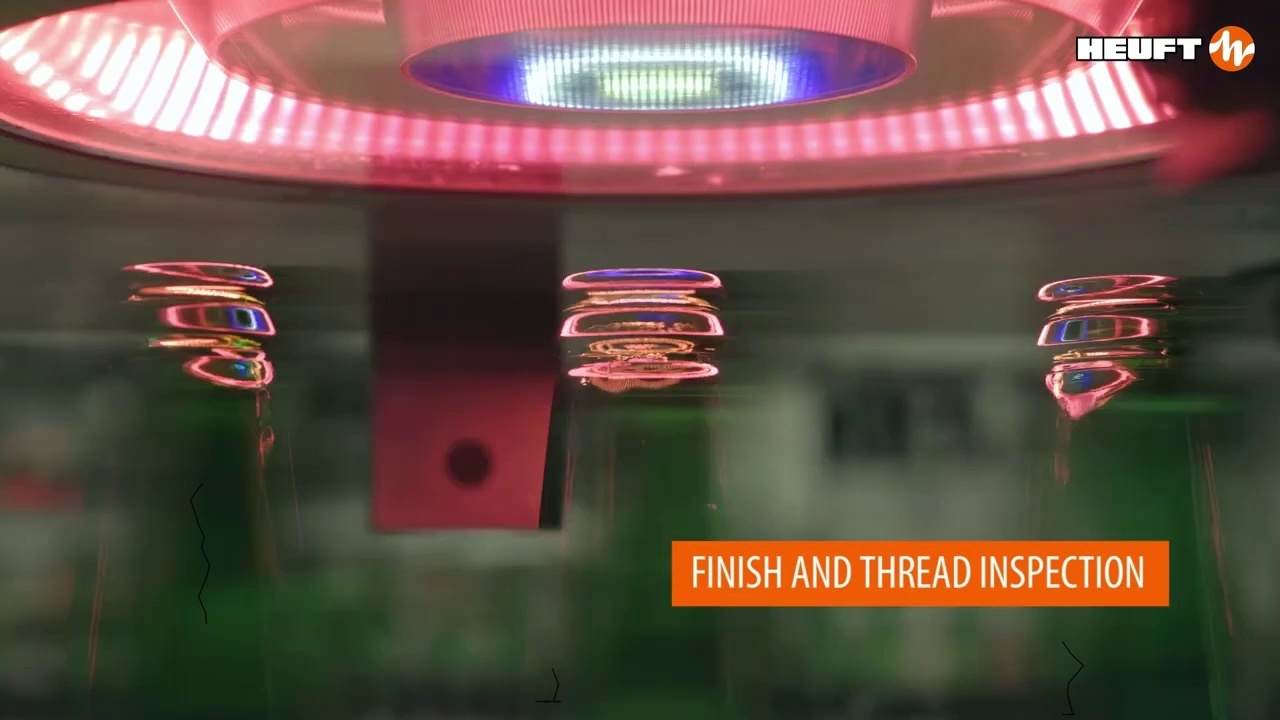bottle: (60, 265, 372, 697), (552, 267, 802, 718)
crack: (190, 483, 209, 623), (1062, 641, 1083, 714), (535, 668, 560, 701)
